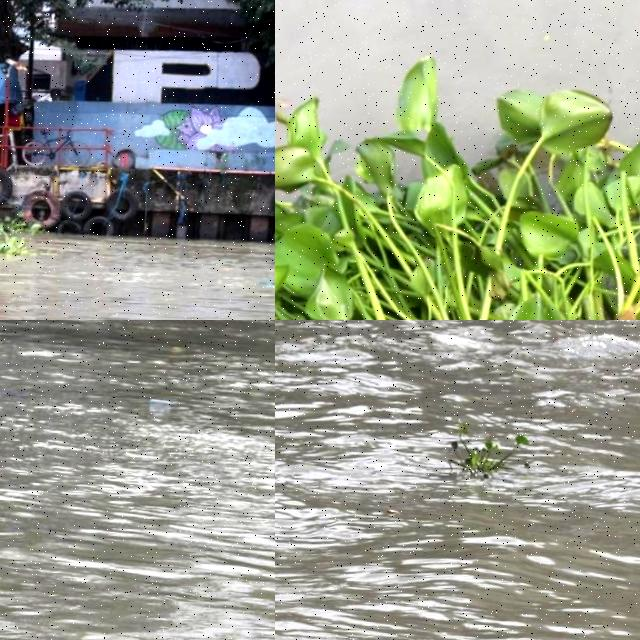water-hyacinth: (276, 32, 640, 321), (448, 432, 530, 483), (1, 213, 53, 259)
